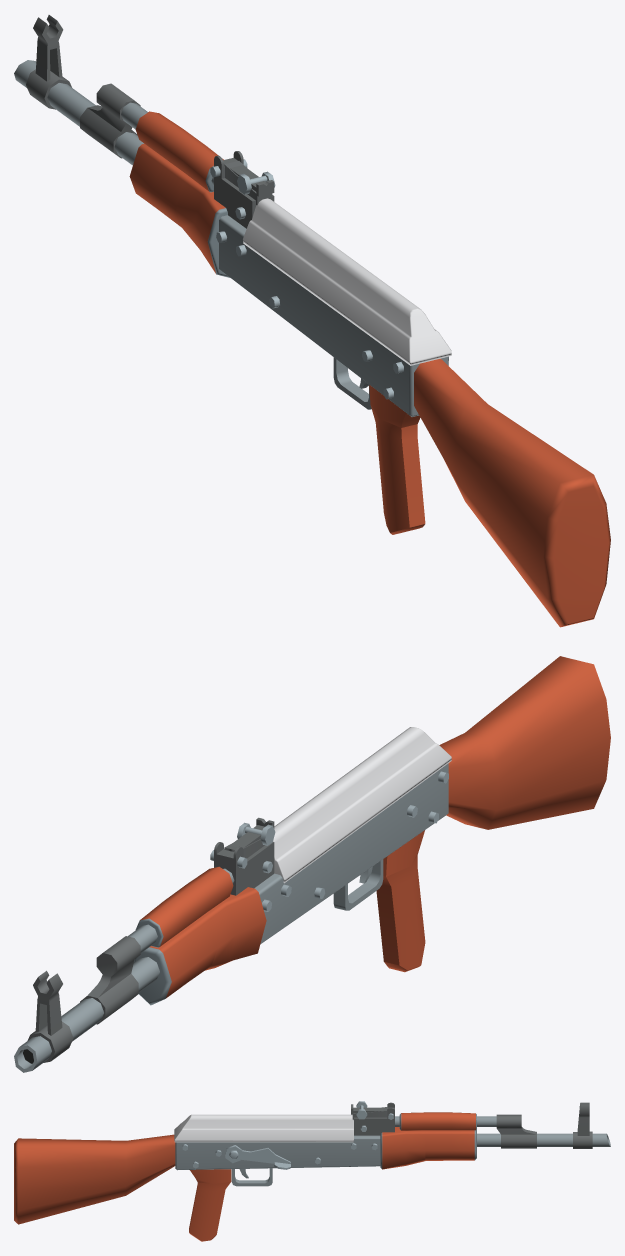
File: Gun.glb
3 renders of one model, top to bottom at view 1: azimuth 30°, elevation 25°; view 2: azimuth 150°, elevation 25°; view 3: azimuth 270°, elevation 25°, orthographic. The views are drawn at different scales.
Parts seen in each view (by area): view 1: SM_rifle_001; view 2: SM_rifle_001; view 3: SM_rifle_001.
Boxes of the visible parts, box(x1,y1,x2,y2) form: SM_rifle_001: box(14, 15, 610, 627); SM_rifle_001: box(14, 656, 610, 1072); SM_rifle_001: box(14, 1101, 610, 1241).
Bounding box in the file's own units: 0.1356 × 0.4359 × 1.76.
Materials: 1 (1 with a texture image).
